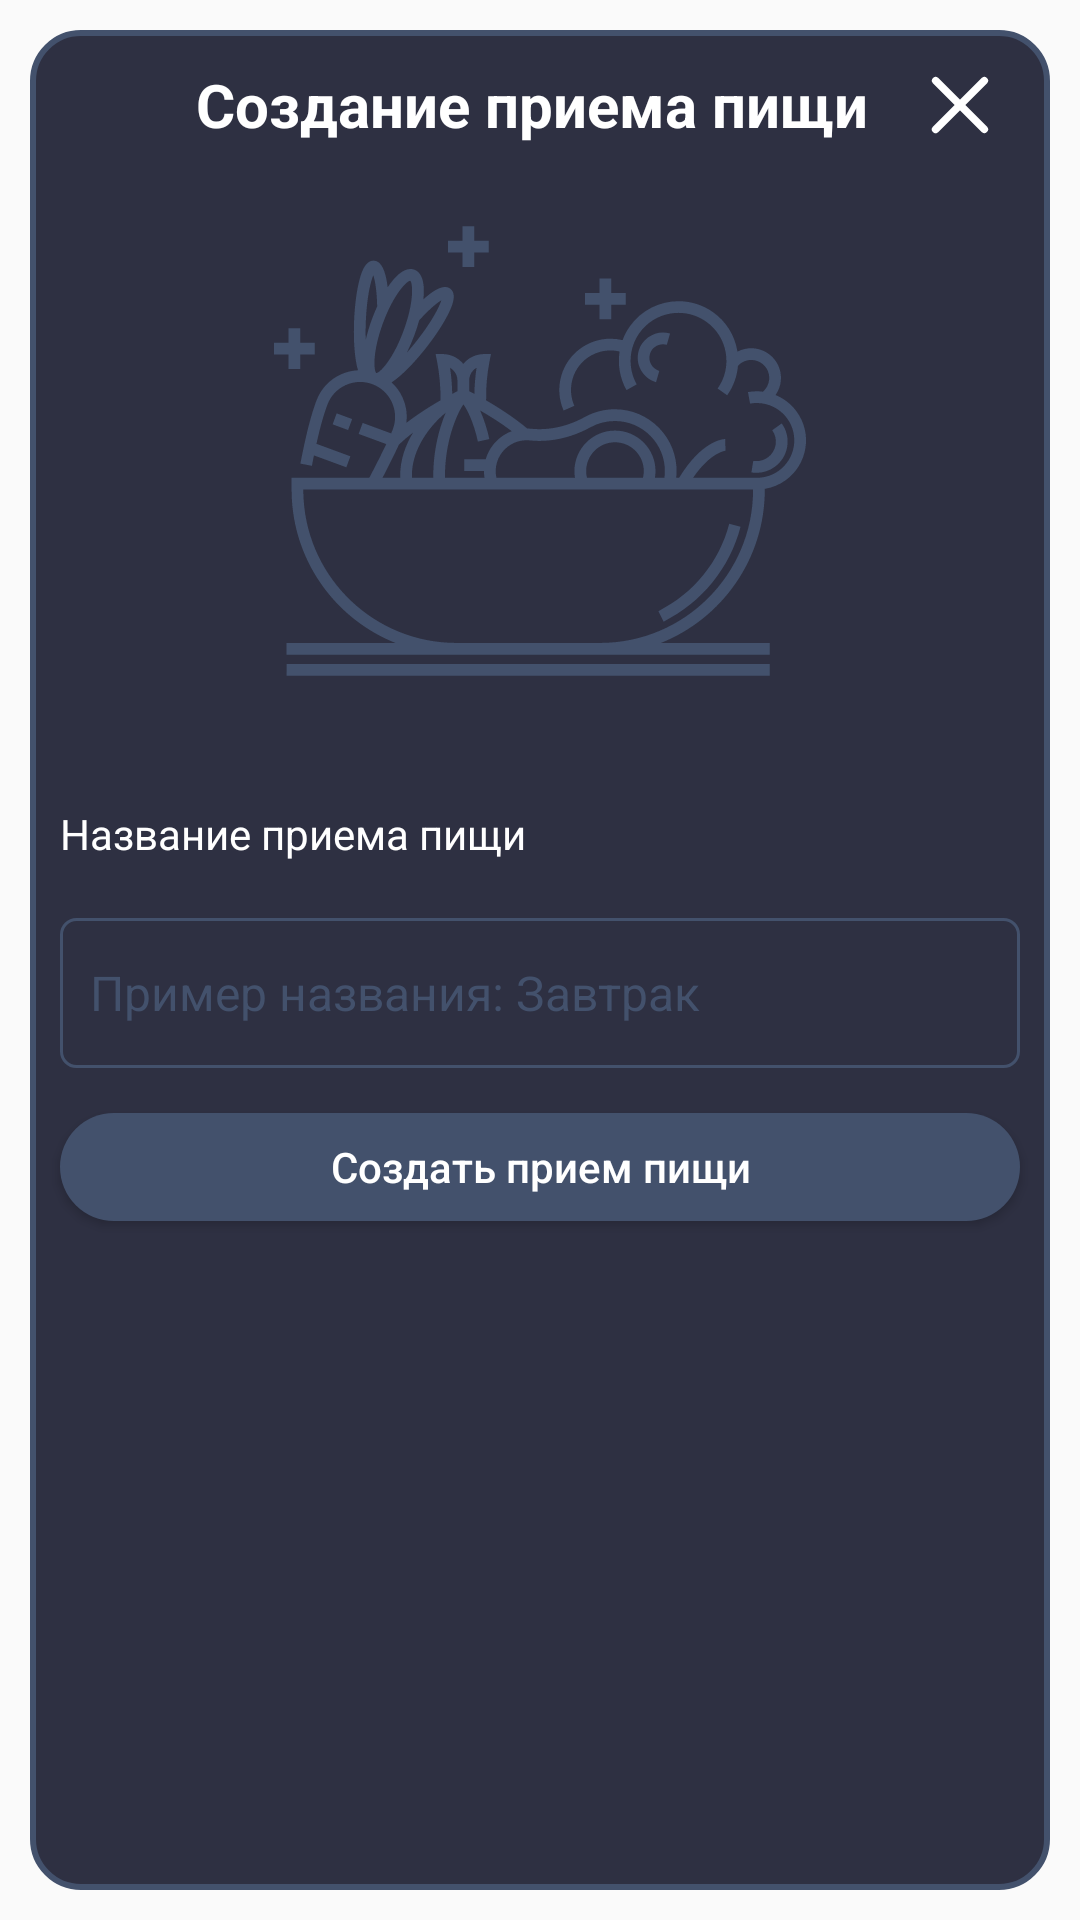

Icon click points for this 1080 x 1920 phone screenshot, format point (x, y):
close: point (960, 105)
